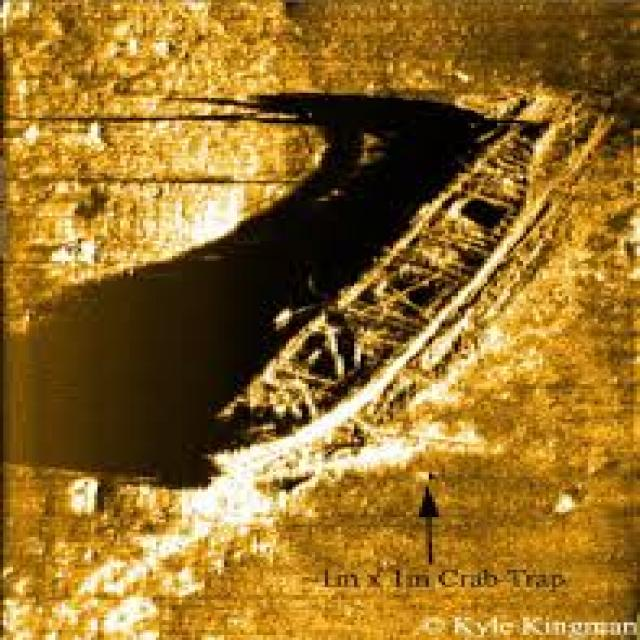ship: (198, 80, 611, 467)
